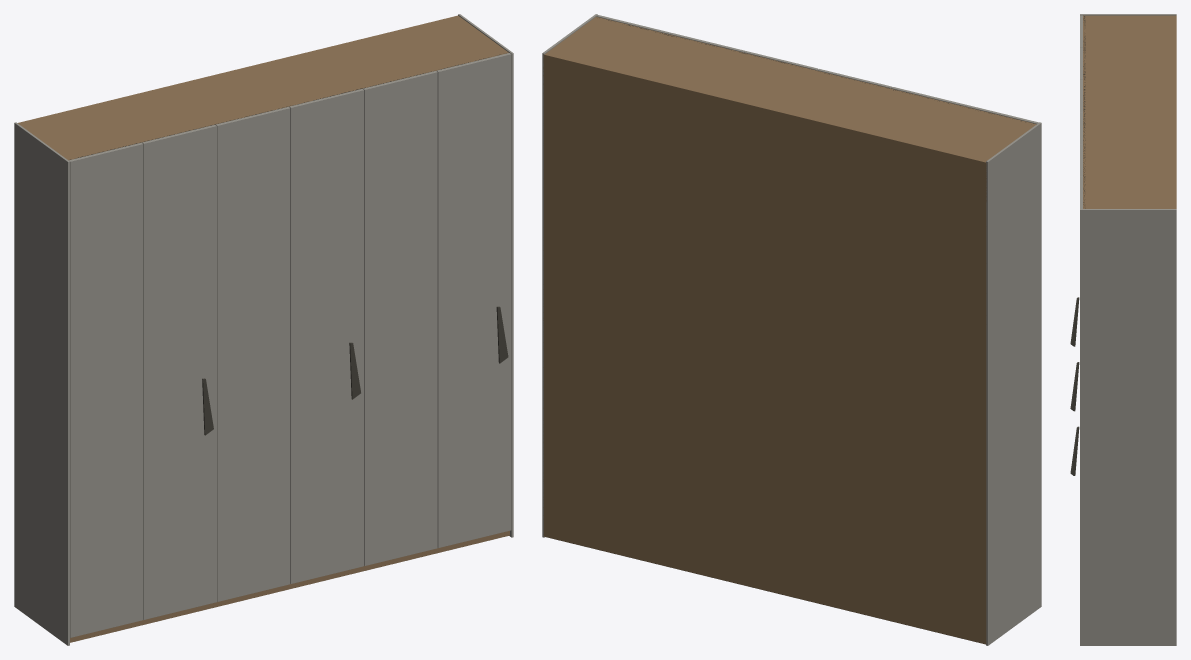
The model's file is reference-greige-wardrobe.glb.
The picture shows the model from 3 angles, left to right: view 1: azimuth 30°, elevation 25°; view 2: azimuth 150°, elevation 25°; view 3: azimuth 270°, elevation 25°; orthographic projection. The views are drawn at different scales.
Visible parts, largest first — view 1: Full height laminate door 6, Full height laminate door 3, Full height laminate door 5, Full height laminate door 1, Full height laminate door 2, Full height laminate door 4, Laminate left end, Timber carcass, Laminate right end; view 2: Timber carcass, Laminate left end, Laminate right end; view 3: Laminate right end, Timber carcass, Sculpted tapered pull 2, Sculpted tapered pull 4, Sculpted tapered pull 6, Laminate left end, Shadow behind door joints.
Boxes of the visible parts, left/top/right/bottom form: Full height laminate door 6: left=437, top=53, right=511, bottom=547; Full height laminate door 3: left=216, top=106, right=290, bottom=601; Full height laminate door 5: left=363, top=71, right=437, bottom=565; Full height laminate door 1: left=69, top=142, right=143, bottom=637; Full height laminate door 2: left=142, top=125, right=216, bottom=619; Full height laminate door 4: left=289, top=89, right=363, bottom=583; Laminate left end: left=14, top=122, right=69, bottom=645; Timber carcass: left=18, top=15, right=509, bottom=642; Laminate right end: left=458, top=14, right=513, bottom=537; Timber carcass: left=543, top=16, right=1036, bottom=644; Laminate left end: left=986, top=122, right=1041, bottom=645; Laminate right end: left=542, top=14, right=597, bottom=537; Laminate right end: left=1080, top=209, right=1176, bottom=645; Timber carcass: left=1083, top=15, right=1176, bottom=208; Sculpted tapered pull 2: left=1070, top=297, right=1079, bottom=346; Sculpted tapered pull 4: left=1070, top=362, right=1079, bottom=411; Sculpted tapered pull 6: left=1070, top=426, right=1079, bottom=475; Laminate left end: left=1080, top=14, right=1176, bottom=15; Shadow behind door joints: left=1083, top=16, right=1085, bottom=208.
Bounding box in the file's own units: 2.64 × 2.74 × 0.604.
